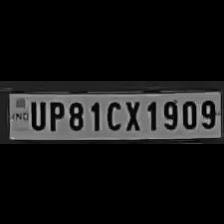0: (180, 96, 198, 128)
1: (86, 98, 102, 132), (142, 97, 158, 130)
8: (65, 97, 85, 131)
9: (159, 96, 179, 130), (198, 96, 216, 128)
C: (102, 97, 122, 130)
P: (46, 97, 64, 131)
U: (27, 97, 46, 129)
X: (122, 97, 142, 131)
